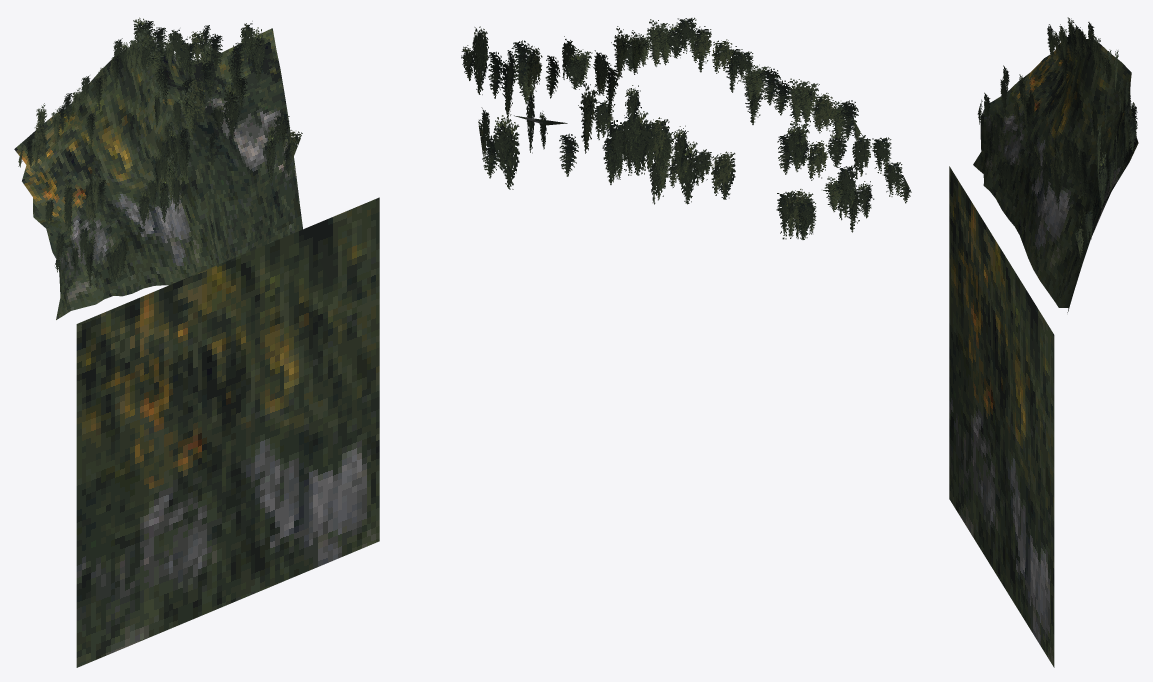
The model's file is world_camden_13_-16.gltf.
3 views of the same model, side by side, from view 1: azimuth 30°, elevation 25°; view 2: azimuth 150°, elevation 25°; view 3: azimuth 270°, elevation 25° (orthographic). The views are drawn at different scales.
Size of the model in its own units: 329 by 469 by 151.
Materials: 2 (2 with a texture image).
